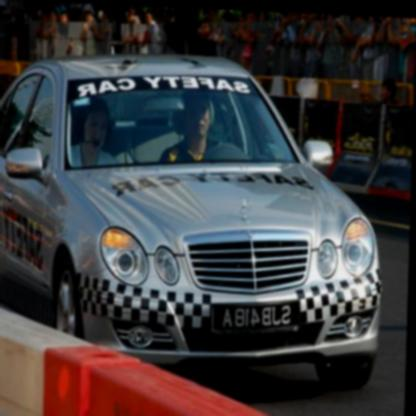License_Plate: (211, 295, 302, 339)
